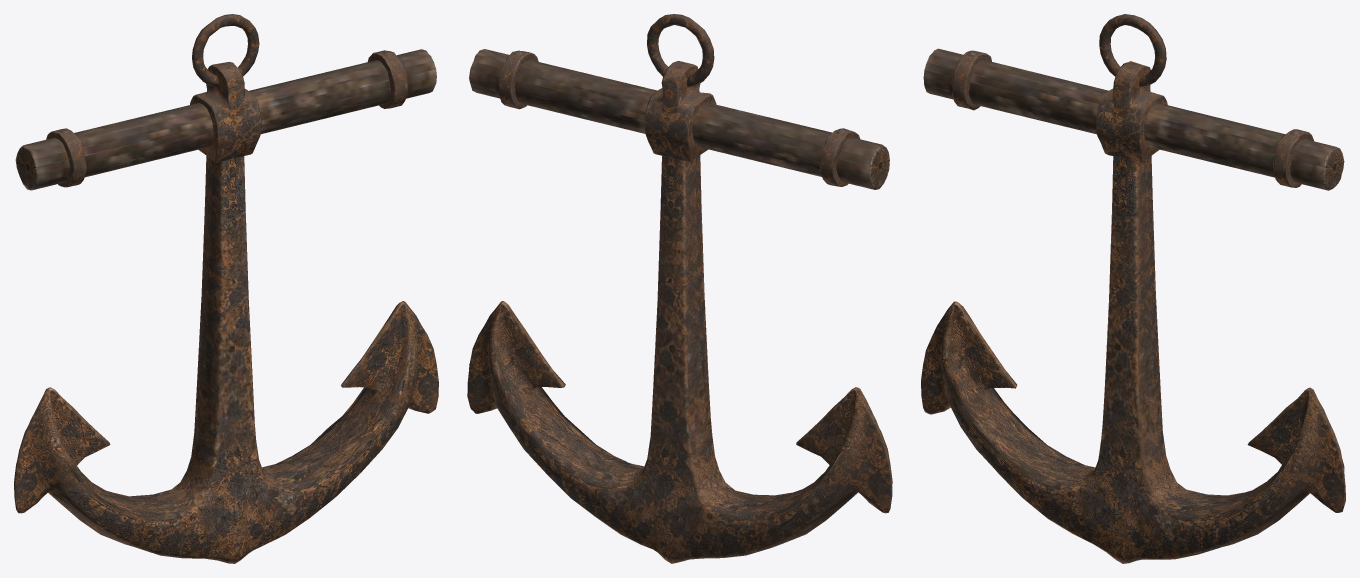
The model's file is anchor_old.glb.
The picture shows the model from 3 angles, left to right: view 1: azimuth 30°, elevation 25°; view 2: azimuth 150°, elevation 25°; view 3: azimuth 330°, elevation 25°; orthographic projection.
Size of the model in its own units: 1.48 by 1.8 by 0.1995.
Materials: 1 (1 with a texture image).
